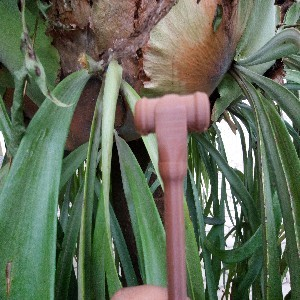palu: (134, 90, 211, 300)
